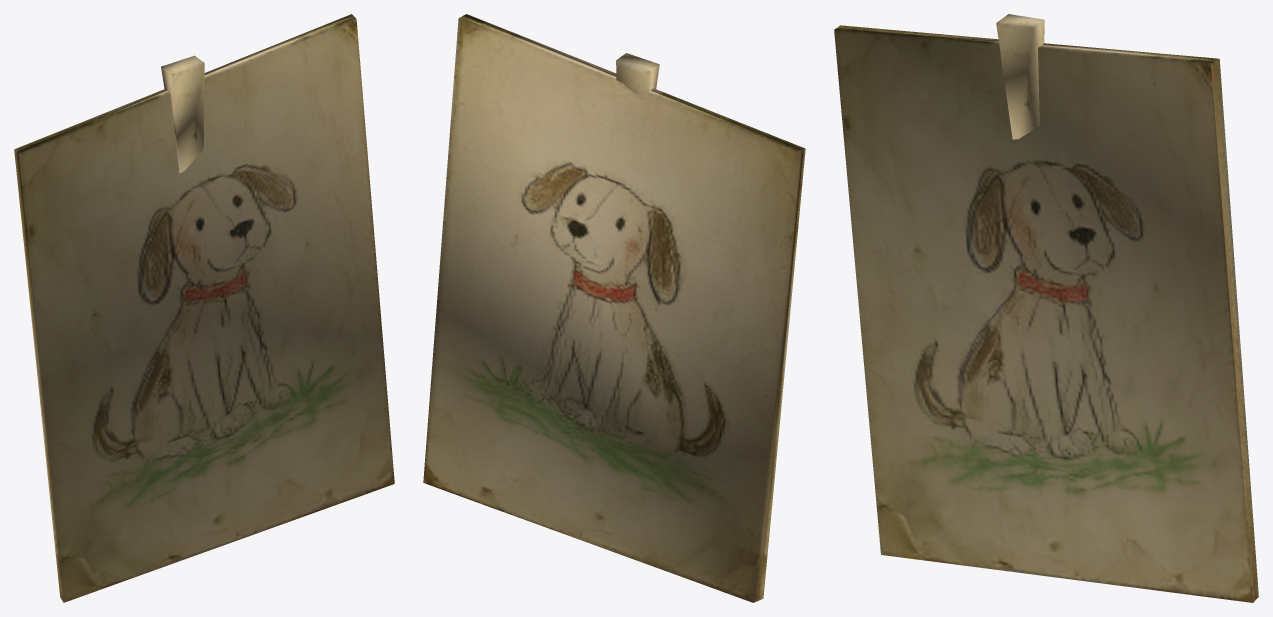
File: picture6.fbx
3 views of the same model, side by side, from view 1: azimuth 30°, elevation 25°; view 2: azimuth 150°, elevation 25°; view 3: azimuth 330°, elevation 25° (orthographic). The views are drawn at different scales.
Parts seen in each view (by area): view 1: picture6; view 2: picture6; view 3: picture6.
Part boxes in pixels (<box>): picture6: <box>14,14,394,602</box>; picture6: <box>423,14,805,602</box>; picture6: <box>834,14,1258,602</box>.
Size of the model in its own units: 174 by 226 by 8.87.
Materials: 1 (1 with a texture image).
